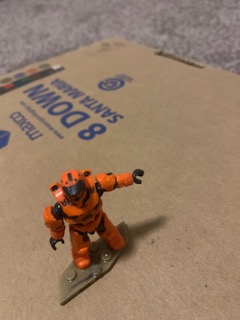soldier: (42, 168, 145, 270)
